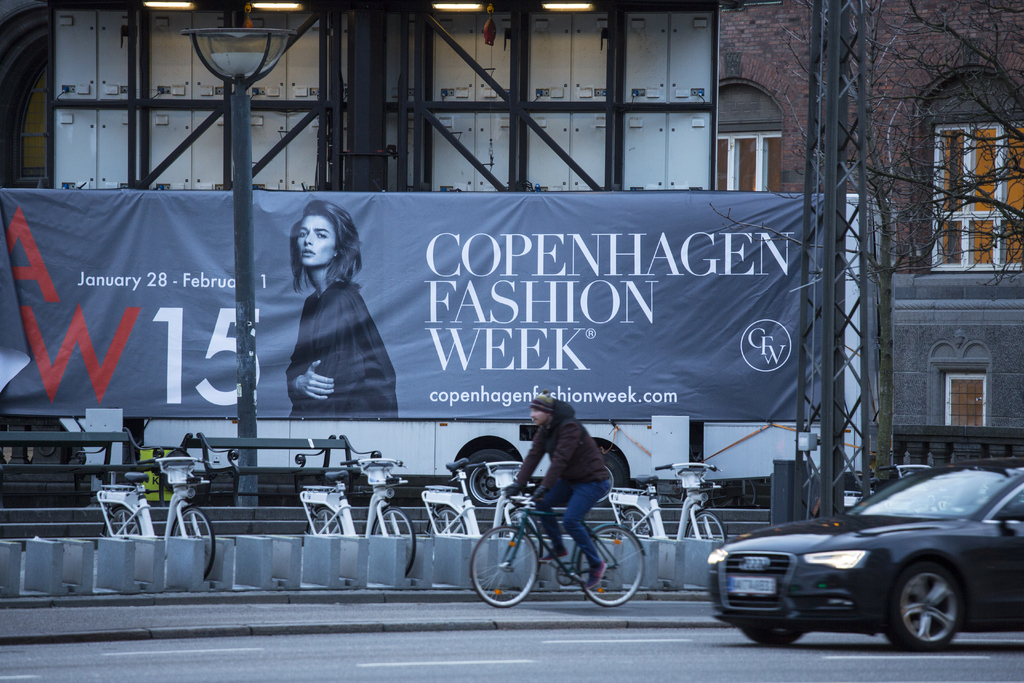Bike: (470, 488, 647, 608)
